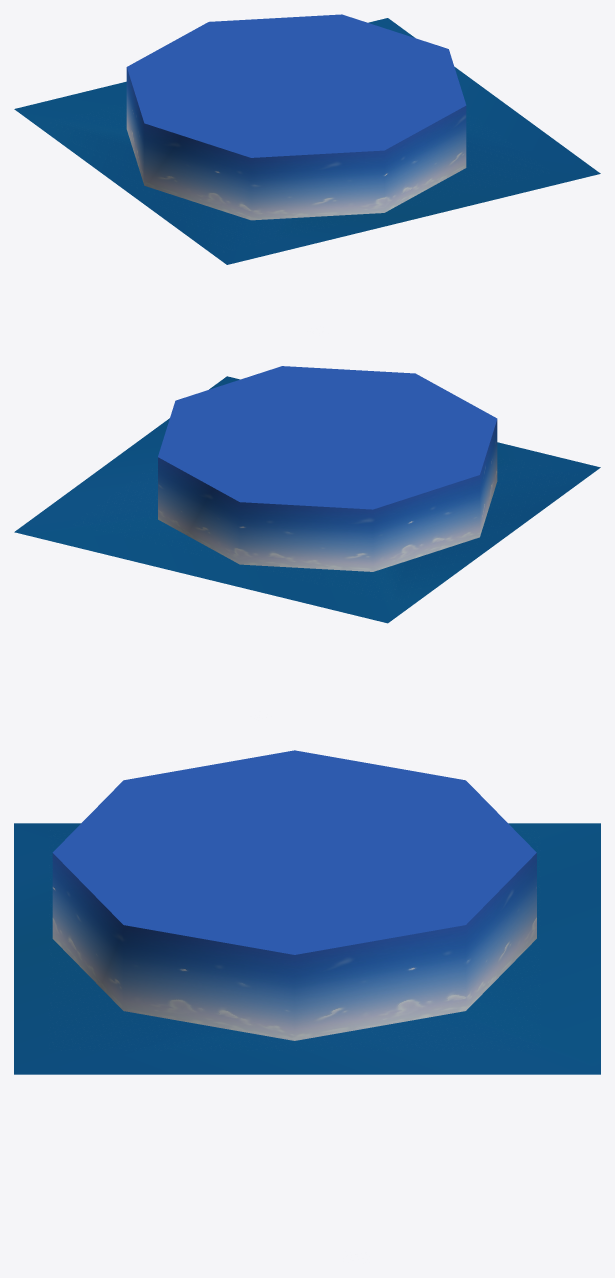
The model's file is outro.glb.
3 renders of one model, top to bottom at view 1: azimuth 30°, elevation 25°; view 2: azimuth 150°, elevation 25°; view 3: azimuth 270°, elevation 25°, orthographic. The views are drawn at different scales.
Visible parts, largest first — view 1: skybox, bottom; view 2: skybox, bottom; view 3: skybox, bottom.
Part boxes in pixels (left/top/right/bottom): skybox: left=126, top=14, right=466, bottom=220; bottom: left=14, top=18, right=600, bottom=264; skybox: left=158, top=366, right=497, bottom=571; bottom: left=14, top=376, right=600, bottom=623; skybox: left=52, top=750, right=536, bottom=1040; bottom: left=14, top=823, right=600, bottom=1074.
Size of the model in its own units: 3794 by 2644 by 3744.
23 materials, 22 textured.
